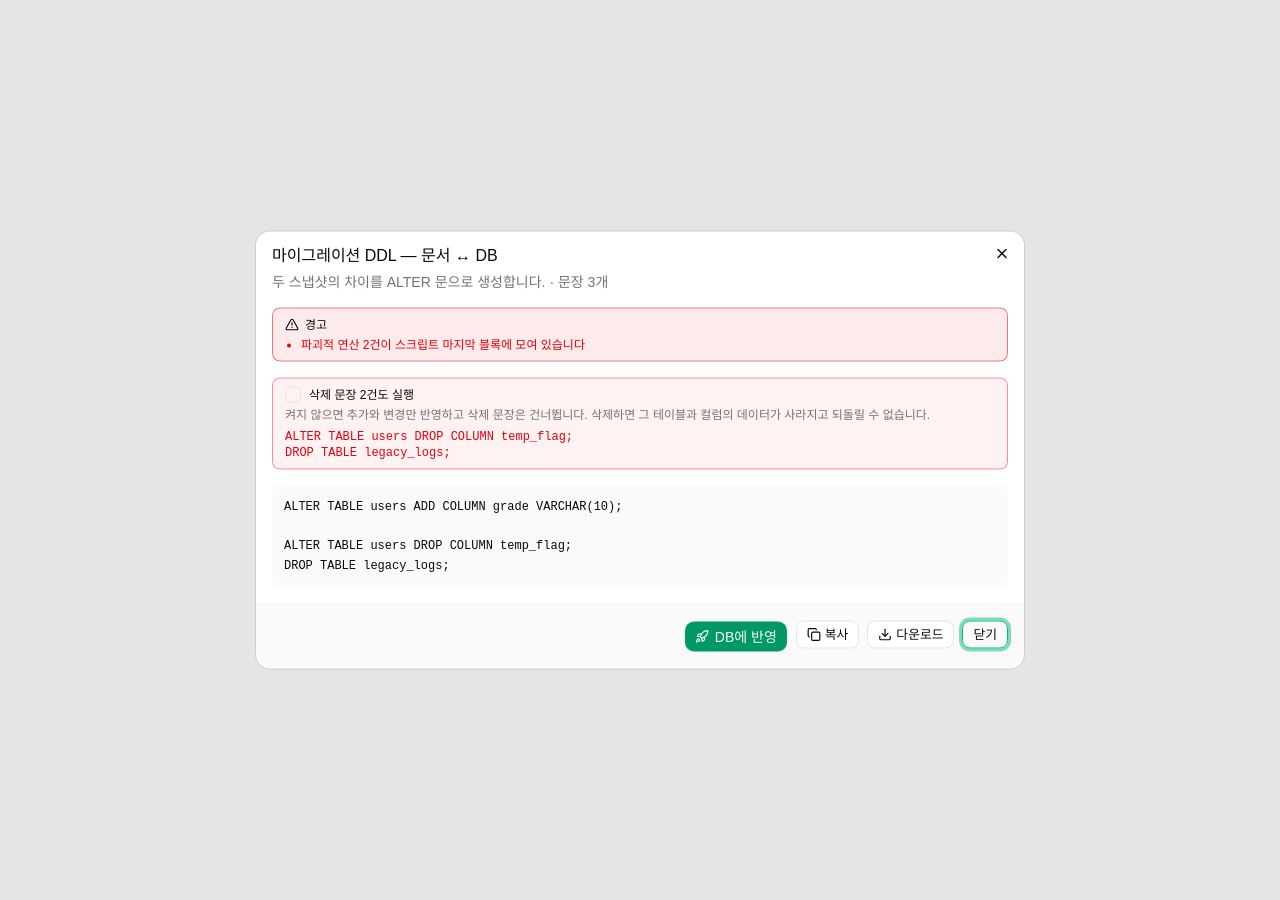
MigrationDdlDialog — 문서↔실제 DB › 삭제 문장은 기본으로 실행하지 않는다 — 추가와 변경만 보내고 건너뛴 수를 알린다
The width and height of the screenshot is (1280, 900).
Expected: the list item "DROP TABLE legacy_logs;" is shown, top-left (285, 446), bottom-right (451, 460)
Click the button with test id "migration-apply": (736, 636) top-left (684, 620), bottom-right (788, 652)
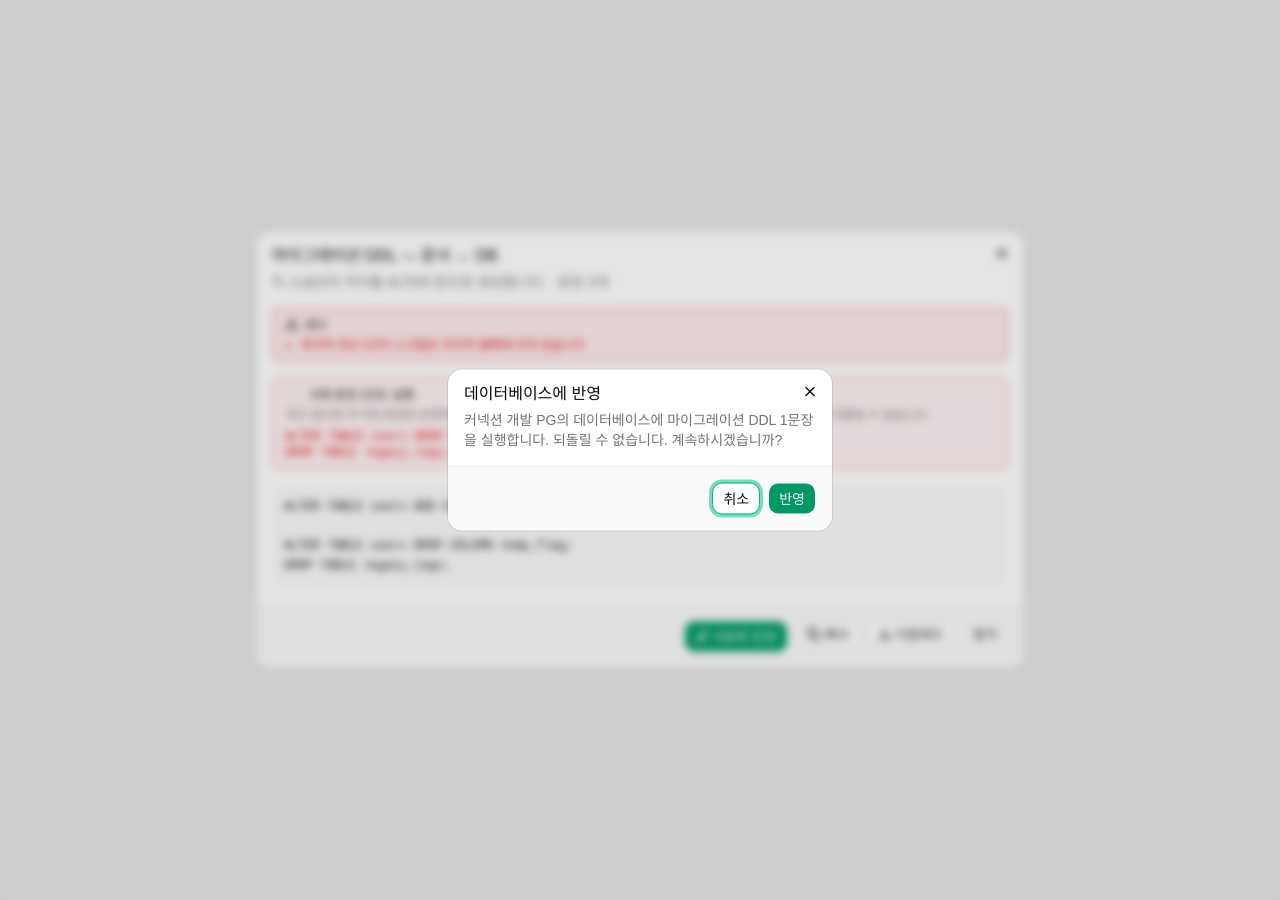
Expected: the text "마이그레이션 DDL 1문장을 실행합니다" is shown, top-left (464, 412), bottom-right (813, 448)
Click the button "반영": (792, 498) top-left (768, 482), bottom-right (816, 514)
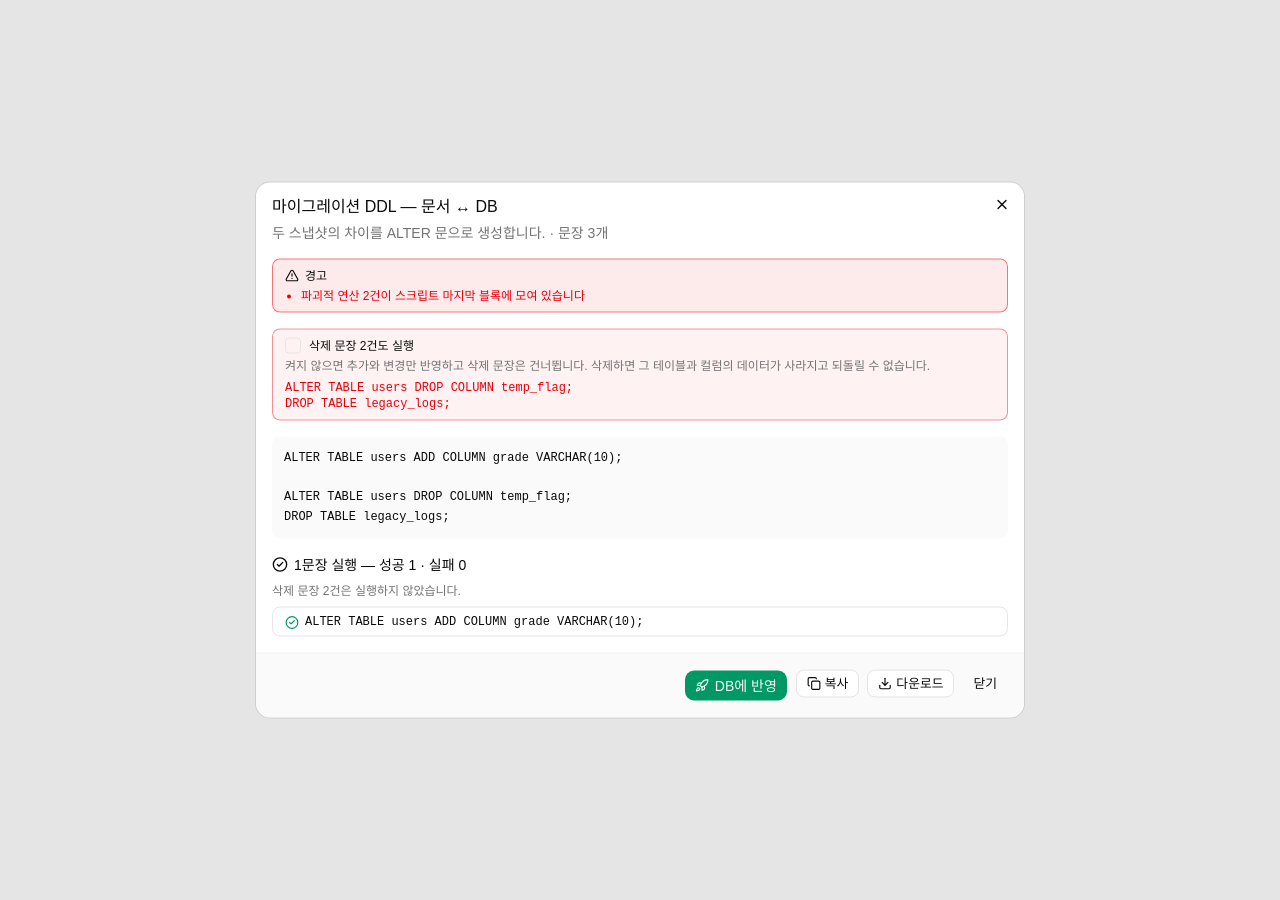
Expected: the element with test id "migration-apply-result" is shown, top-left (272, 554), bottom-right (1008, 636)
Expected: the text with test id "migration-skipped" shows "삭제 문장 2건은 실행하지 않았습니다", top-left (272, 584), bottom-right (461, 598)
